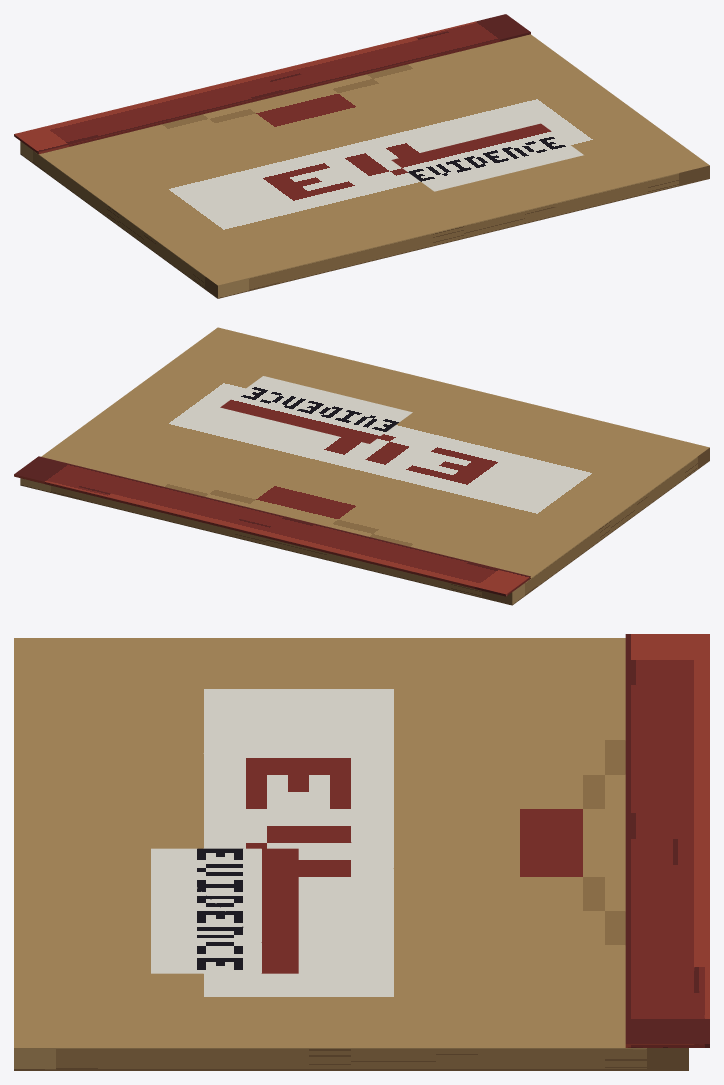
Rendered from INV_EvidenceEnvelope.glb.
3 views of the same model, one above another, from view 1: azimuth 30°, elevation 25°; view 2: azimuth 150°, elevation 25°; view 3: azimuth 270°, elevation 25° (orthographic). The views are drawn at different scales.
Parts seen in each view (by area): view 1: INV_EvidenceEnvelope_Mesh; view 2: INV_EvidenceEnvelope_Mesh; view 3: INV_EvidenceEnvelope_Mesh.
Part boxes in pixels (x1,y1,x2,y2): INV_EvidenceEnvelope_Mesh: (14, 14, 709, 298); INV_EvidenceEnvelope_Mesh: (14, 327, 709, 605); INV_EvidenceEnvelope_Mesh: (14, 634, 709, 1070).
Size of what is drawn, in the model's own units: 0.23 by 0.007 by 0.165.
1 material, 1 textured.
